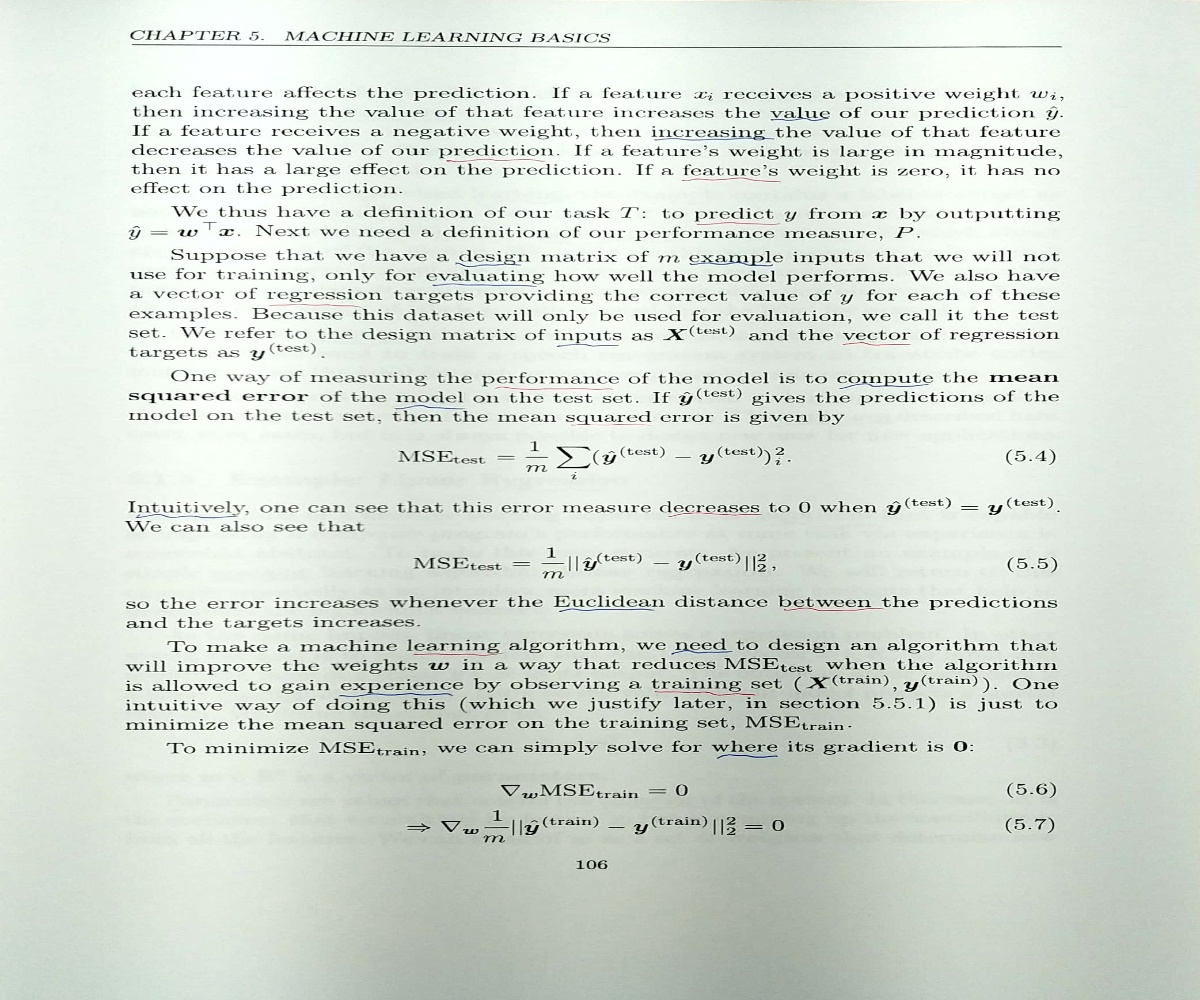underline: (678, 175, 783, 186), (556, 606, 659, 617), (336, 690, 455, 699), (653, 688, 756, 698), (134, 511, 236, 521), (490, 384, 617, 392), (429, 281, 541, 290), (652, 135, 777, 143), (267, 301, 365, 310), (443, 156, 547, 164), (838, 383, 933, 391), (411, 650, 503, 658), (392, 402, 468, 411), (711, 751, 779, 761), (667, 510, 763, 517), (555, 340, 622, 350), (693, 220, 784, 227), (453, 260, 523, 269), (839, 339, 909, 348), (782, 606, 886, 612), (687, 260, 778, 266), (665, 649, 732, 657), (570, 421, 659, 427), (770, 115, 828, 124)
